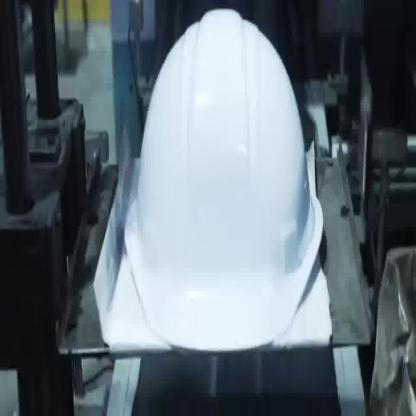helmet: (122, 9, 324, 356)
